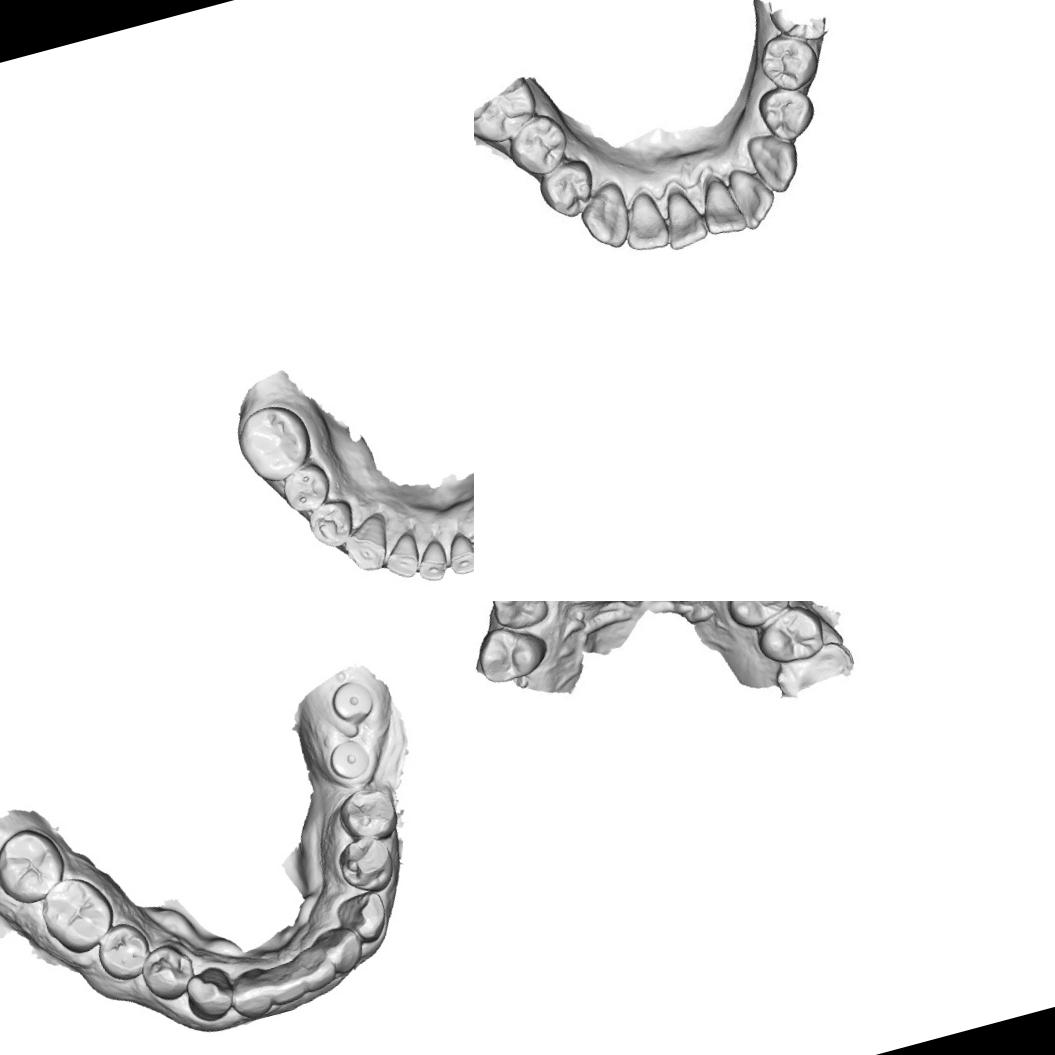canine: (328, 880, 398, 951), (574, 178, 637, 253), (336, 506, 400, 578), (742, 126, 806, 198), (178, 962, 239, 1027), (484, 601, 550, 632)
implant: (325, 673, 381, 728), (324, 735, 374, 785)
incisor: (610, 184, 676, 262), (693, 168, 750, 240), (220, 960, 279, 1024), (726, 162, 778, 232), (312, 918, 370, 980), (287, 932, 340, 998), (656, 182, 706, 248), (260, 952, 312, 1009), (378, 526, 426, 584), (409, 534, 453, 586), (438, 525, 474, 581), (464, 510, 474, 568)
molar: (228, 395, 322, 491), (34, 868, 126, 964), (0, 819, 75, 913)
premolar: (474, 615, 557, 689), (330, 778, 406, 850), (749, 601, 828, 670), (88, 914, 158, 991), (332, 830, 409, 900), (750, 26, 822, 100), (501, 107, 572, 181), (532, 152, 600, 224), (136, 938, 201, 1007), (755, 78, 819, 144), (275, 458, 337, 518), (302, 492, 362, 553), (713, 601, 796, 633)
